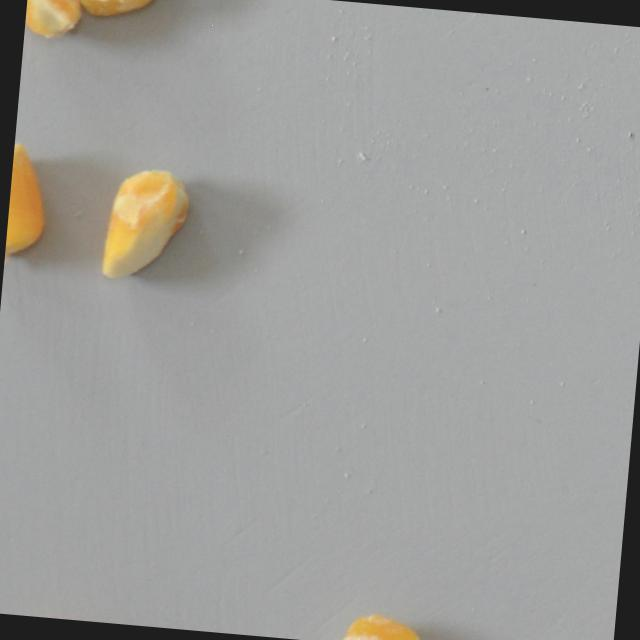estandar: (4, 141, 52, 267)
pelicula: (98, 162, 195, 286), (330, 610, 431, 640), (24, 0, 87, 40), (50, 0, 168, 19)
